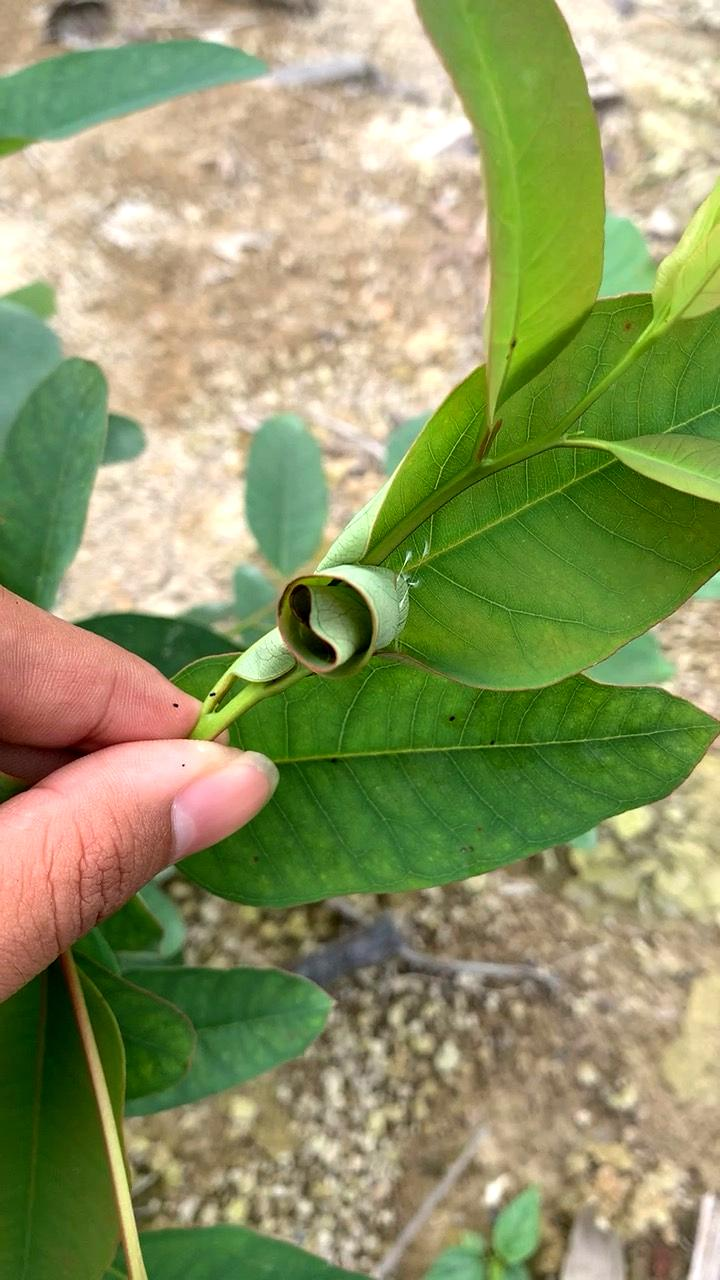Leaf Roller - Leaf: (248, 540, 461, 702)
